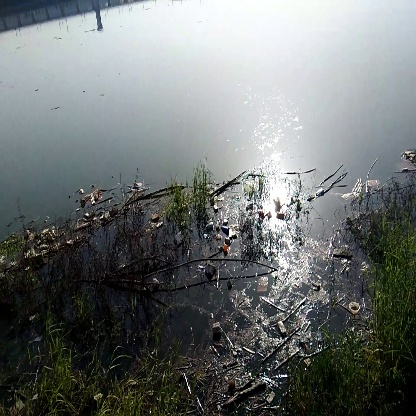branch: (149, 253, 278, 284)
